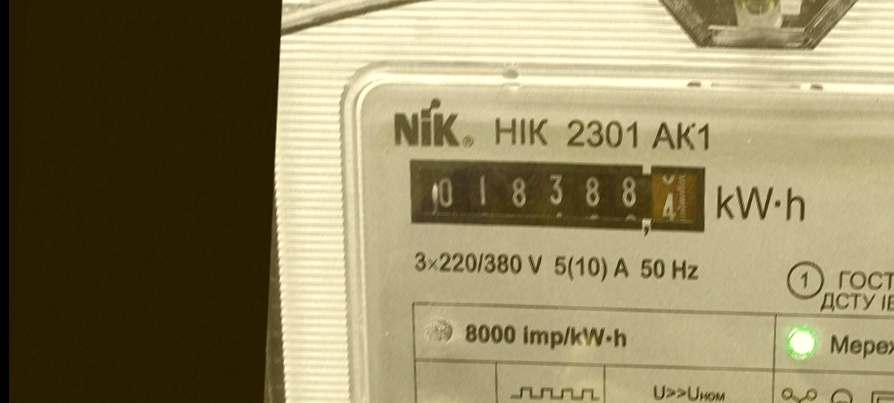0: (436, 172, 458, 209)
1: (474, 169, 494, 207)
3: (548, 170, 569, 206)
4: (660, 187, 681, 221)
8: (619, 172, 642, 209), (509, 172, 532, 208), (583, 173, 605, 209)
screen: (400, 143, 722, 247)
